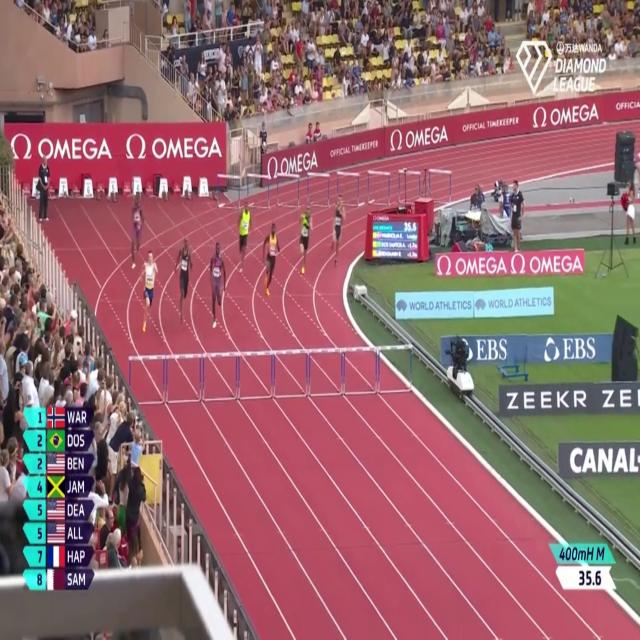athlete: (206, 236, 227, 336), (174, 226, 193, 325), (140, 250, 158, 338), (260, 220, 279, 298), (327, 190, 346, 266), (296, 196, 312, 274), (237, 192, 251, 274), (129, 190, 142, 276)
hurdle: (203, 347, 239, 410), (166, 352, 202, 414), (237, 351, 275, 406), (342, 346, 377, 404), (126, 352, 162, 408), (273, 346, 311, 399), (308, 346, 343, 401), (381, 344, 418, 395), (364, 166, 392, 215), (395, 168, 423, 215), (428, 164, 454, 211), (336, 166, 362, 210), (215, 171, 241, 213), (306, 169, 330, 212), (247, 173, 271, 214), (276, 170, 300, 208)
